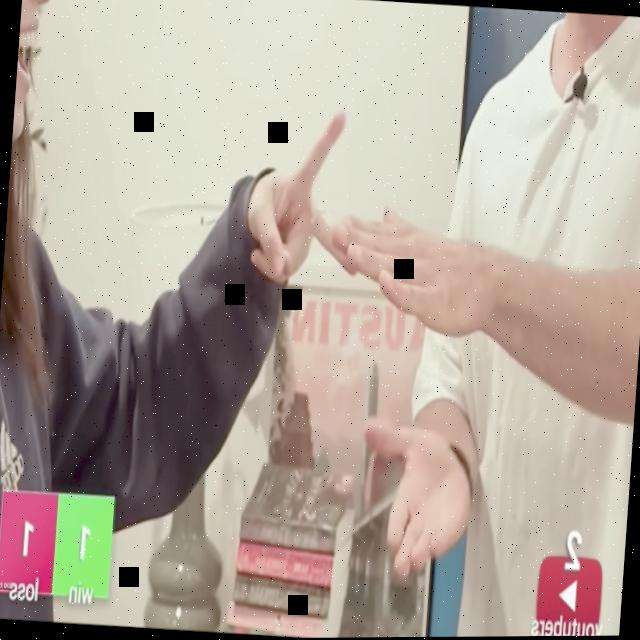Paper: (324, 202, 499, 350)
Scissors: (242, 104, 366, 293)
